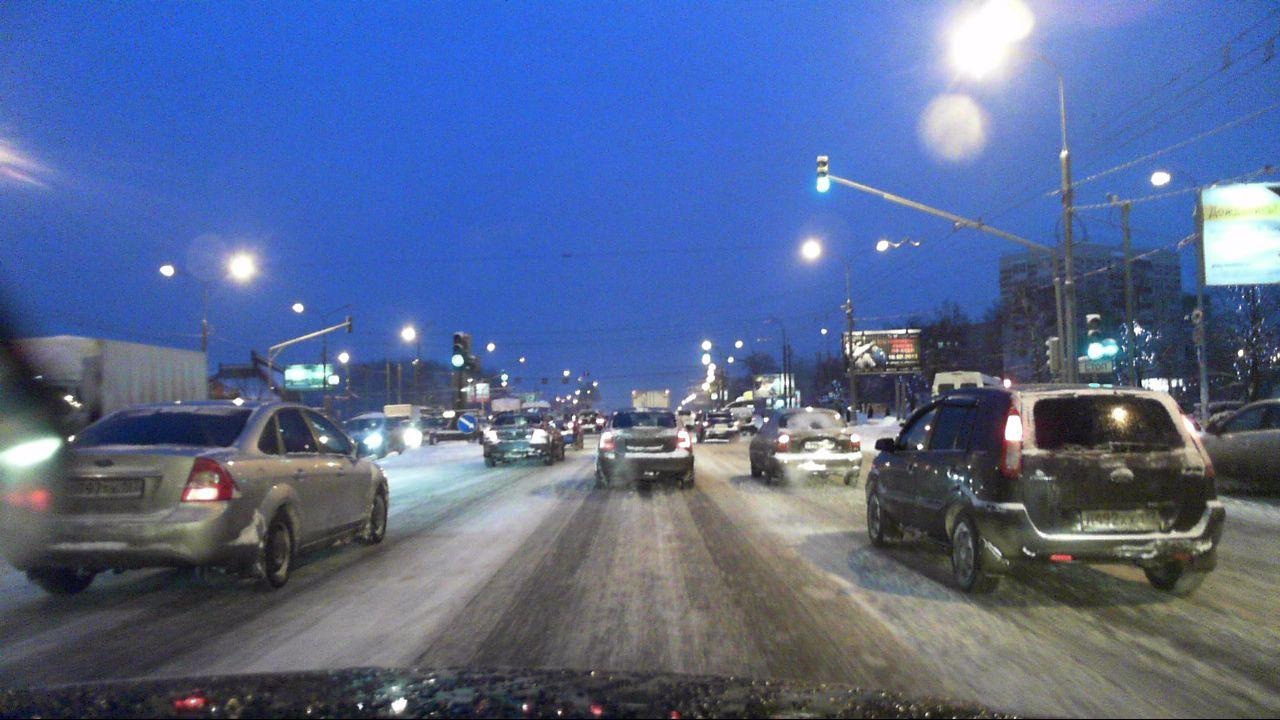road_sign: (458, 412, 478, 434)
traffic light: (1086, 312, 1122, 361), (449, 333, 480, 372), (816, 155, 829, 190)
